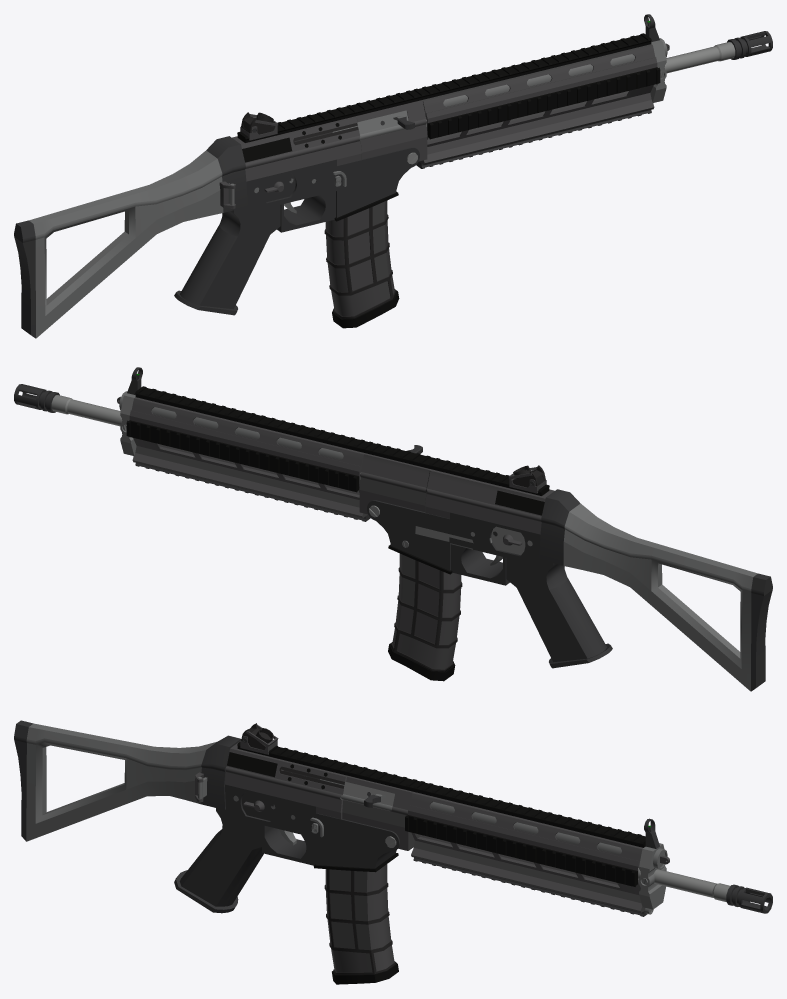
The model's file is SIG556_Mesh.fbx.
3 views of the same model, one above another, from view 1: azimuth 30°, elevation 25°; view 2: azimuth 150°, elevation 25°; view 3: azimuth 330°, elevation 25° (orthographic).
Visible parts, largest first — view 1: SIG556; view 2: SIG556; view 3: SIG556.
Part boxes in pixels (left/top/right/bottom): SIG556: left=14, top=14, right=772, bottom=338; SIG556: left=14, top=367, right=772, bottom=691; SIG556: left=14, top=720, right=772, bottom=984.
Bounding box in the file's own units: 0.8057 × 0.2405 × 0.0645.
